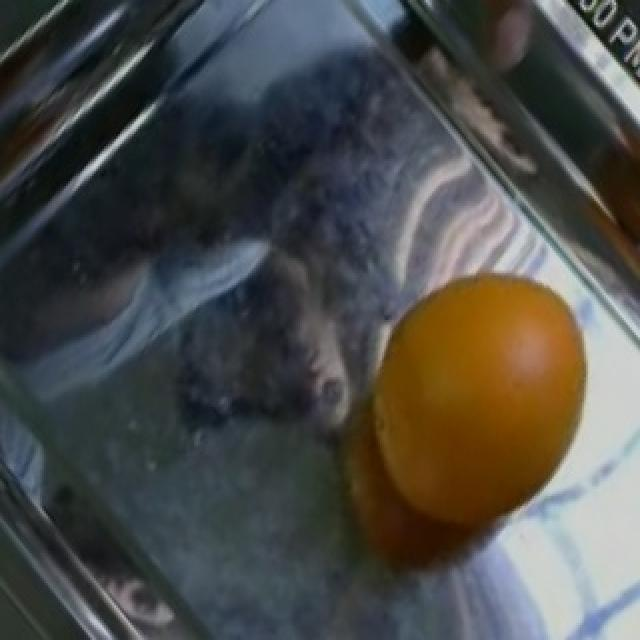Fruit: (348, 253, 616, 561)
